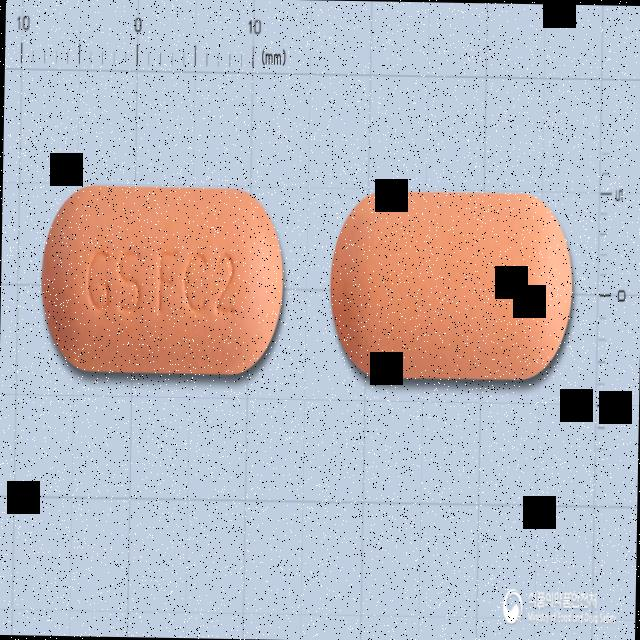Kivexa: (38, 184, 288, 376)
